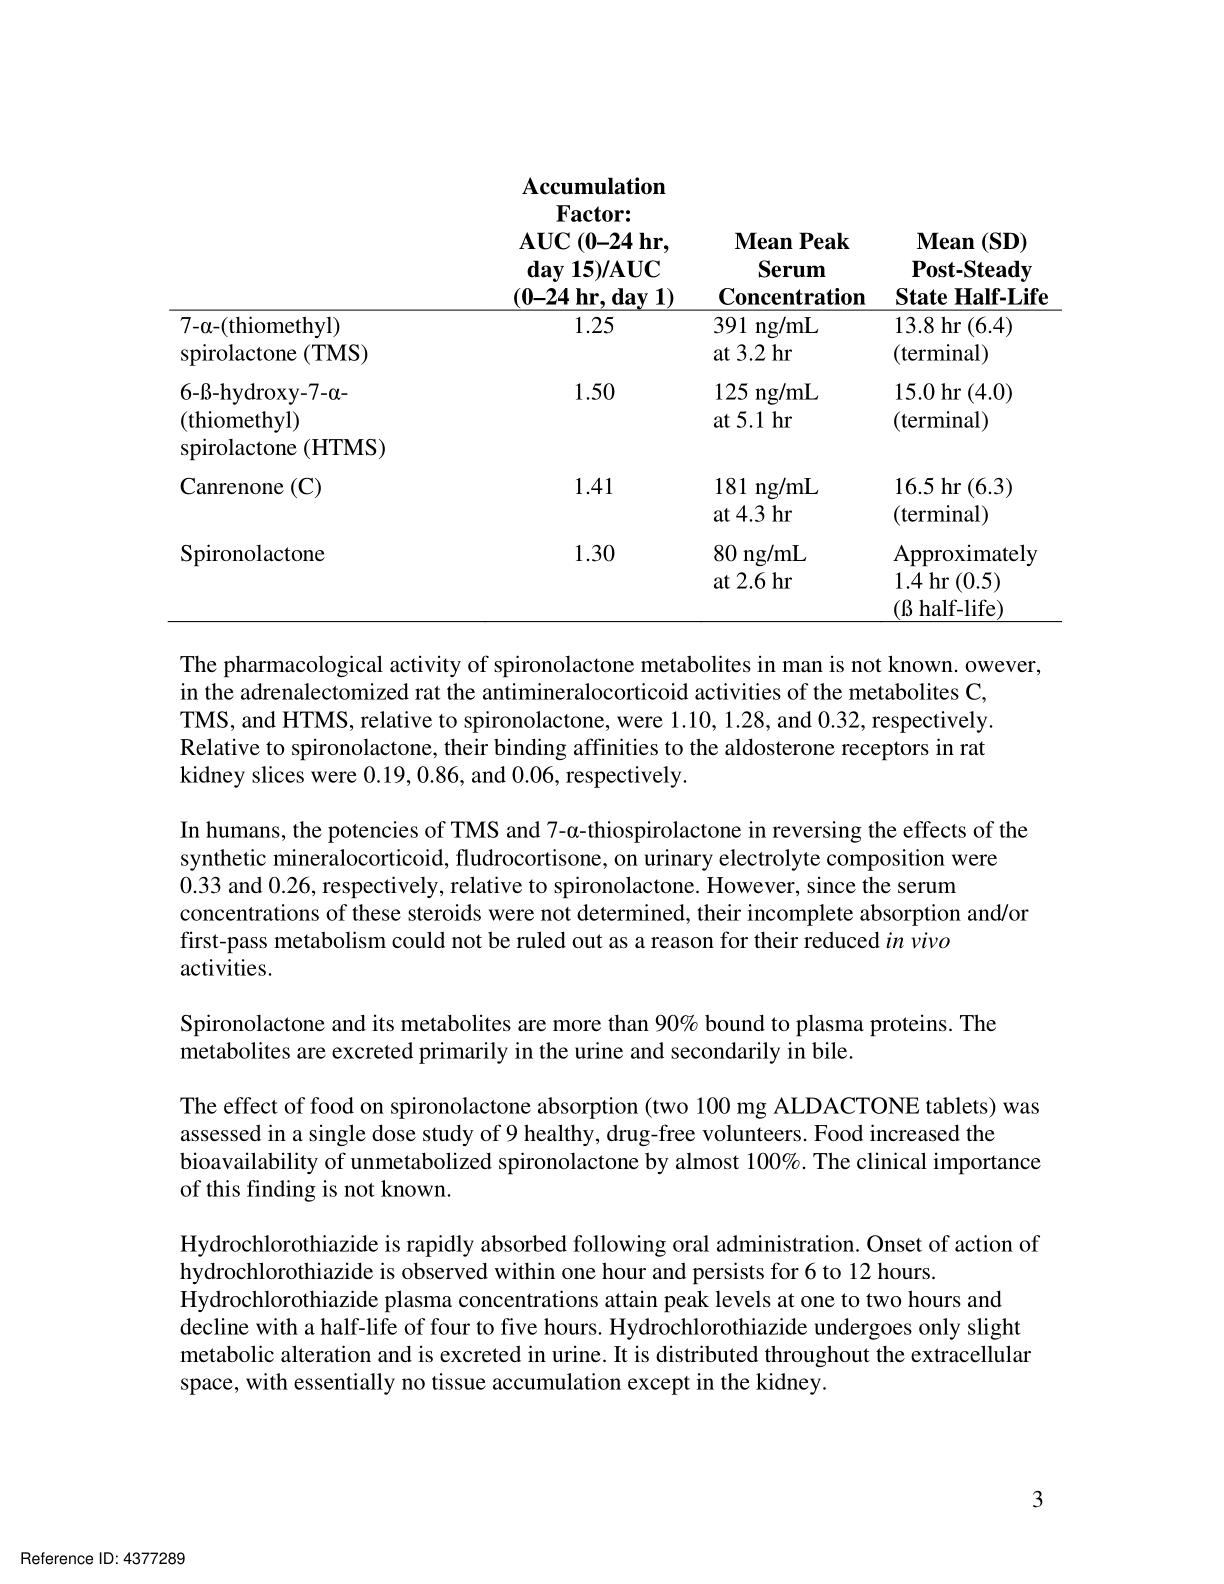partial_lined: (161, 170, 1065, 626)
